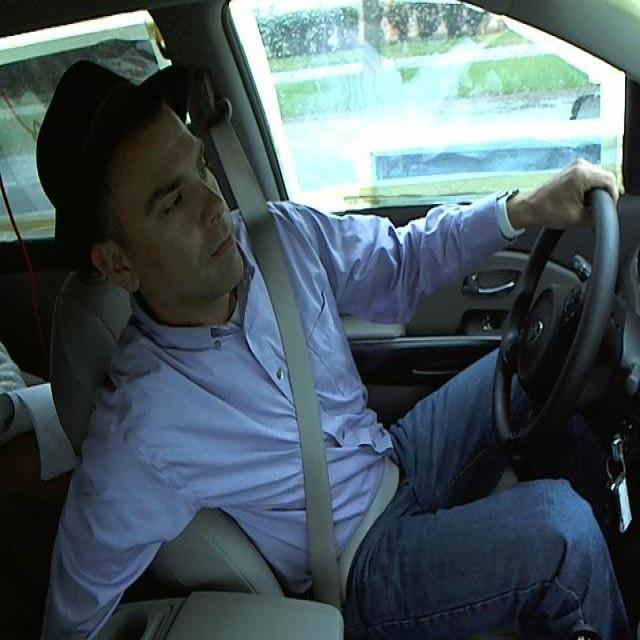seatbelt: (251, 253, 387, 572)
